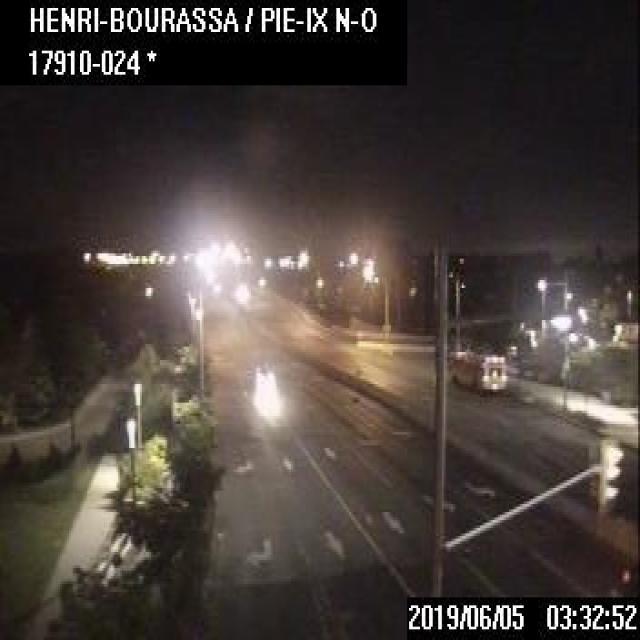bus: (449, 349, 506, 392)
